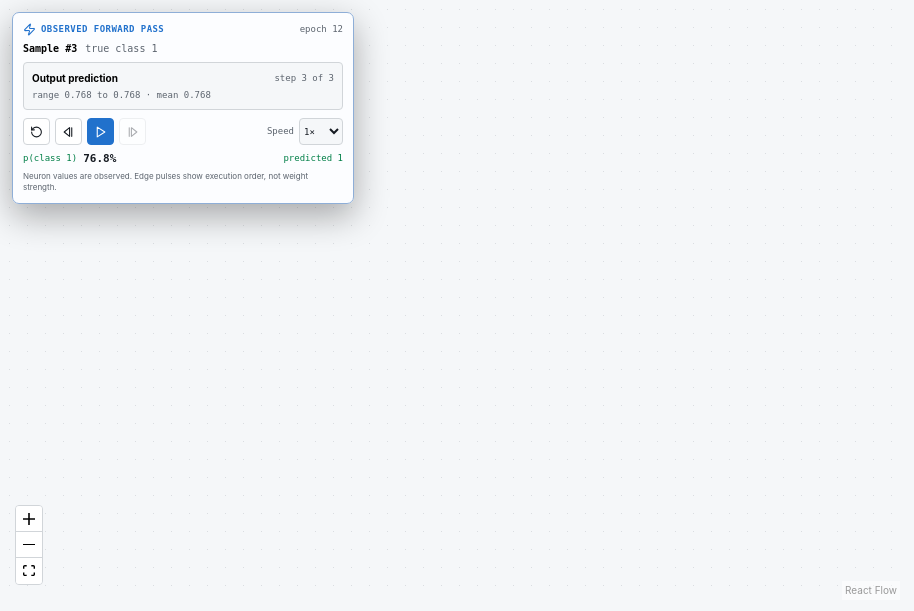
it: NetworkGraph forward-pass animation › honors reduced motion while keeping manual inspection available
Expected: the message shows "Output prediction", [32,72,118,84]
Step 1. Click the button named "Previous layer" → (68, 132), box [55,118,82,145]
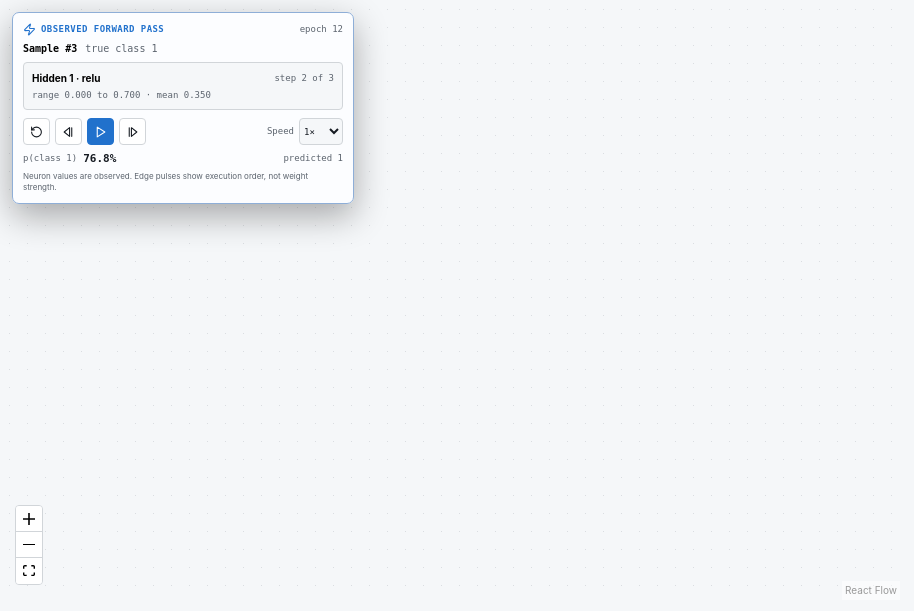
Result: the message shows "Hidden 1 · relu" at [32,72,100,84]
